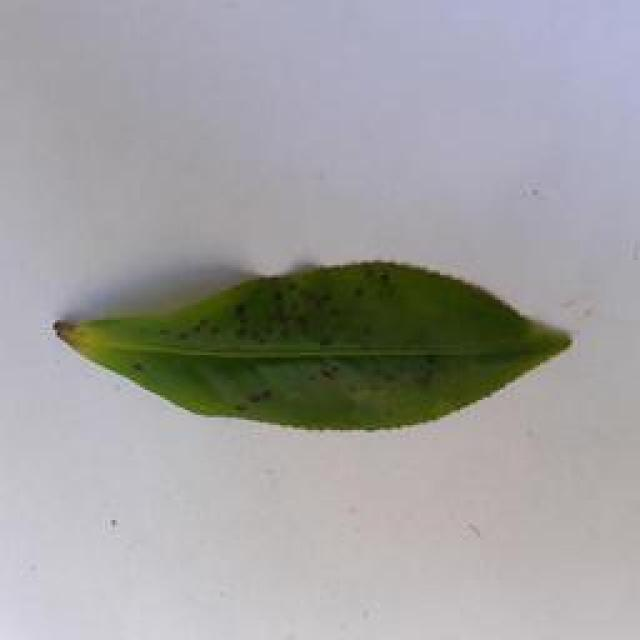Helopeltis: (38, 247, 580, 452)
